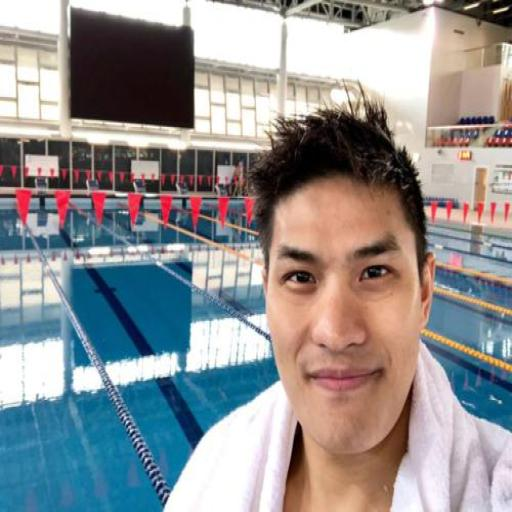swimming: (151, 83, 511, 511)
